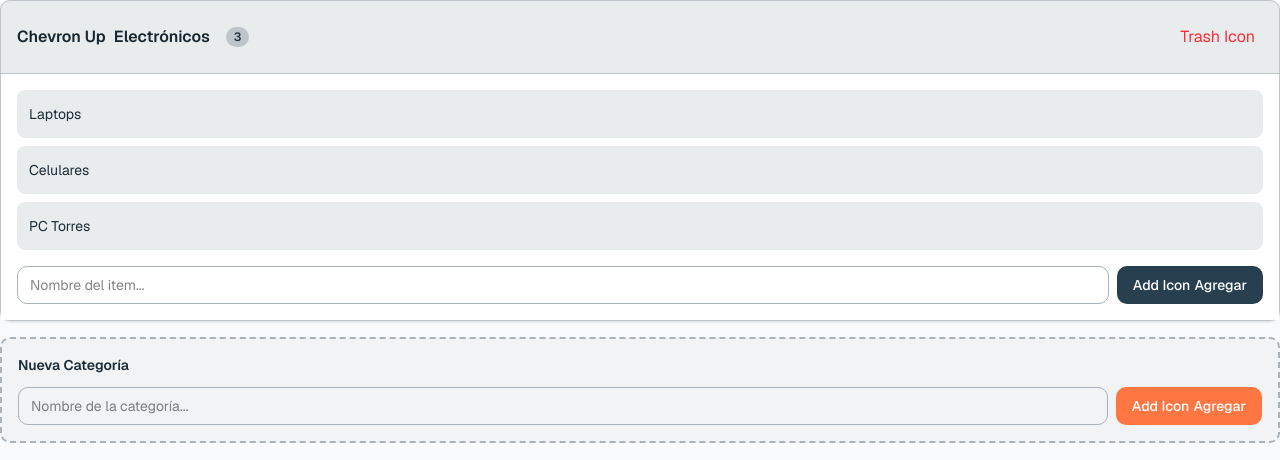
Test: CategoryManager Component › Category Management › should toggle category expansion
Check: the text "Laptops" is shown, box [29,104,81,124]
Note: Click to collapse
Click the button "Chevron Up Electrónicos 3": (61, 36) [17,25,1164,49]
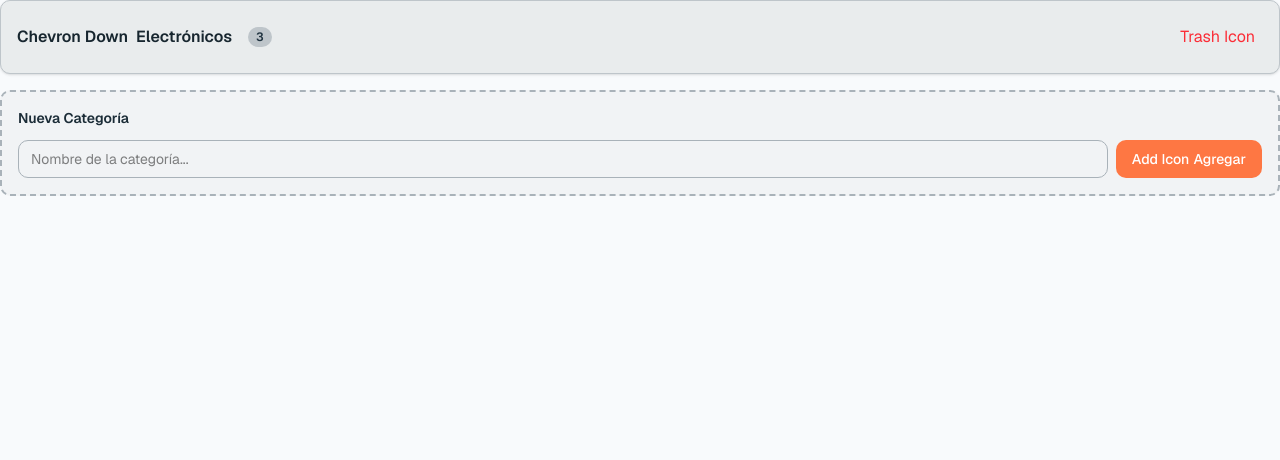
Check: the text "Laptops" is gone
Note: Click to expand again
Click the button "Chevron Down Electrónicos 3": (73, 36) [17,25,1164,49]
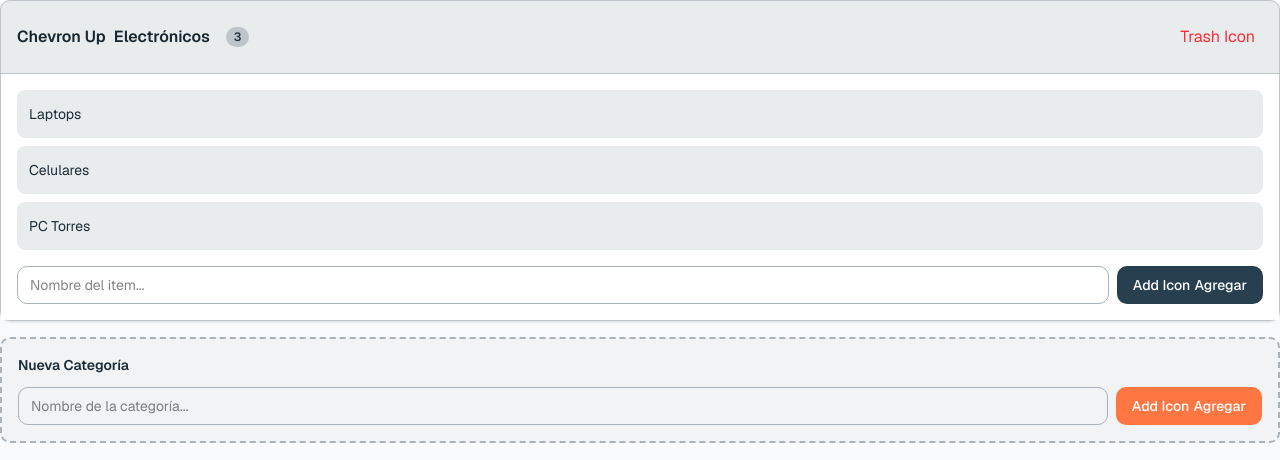
Check: the text "Laptops" is shown, box [29,104,81,124]
